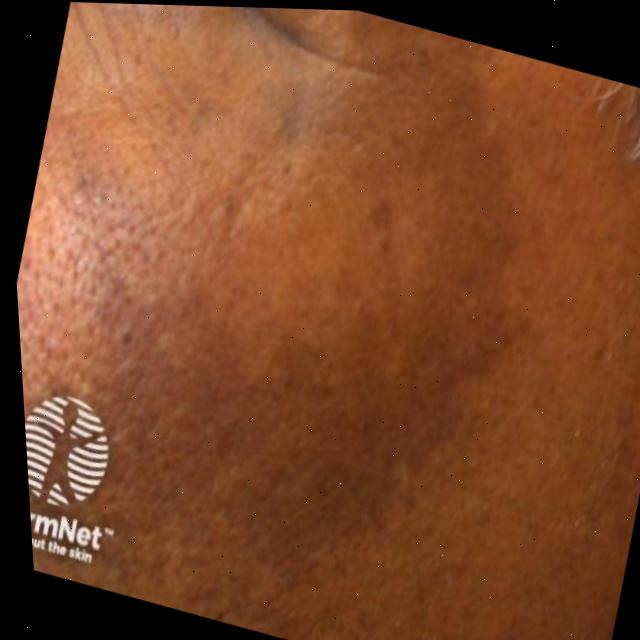Melasma: (49, 35, 555, 579)
